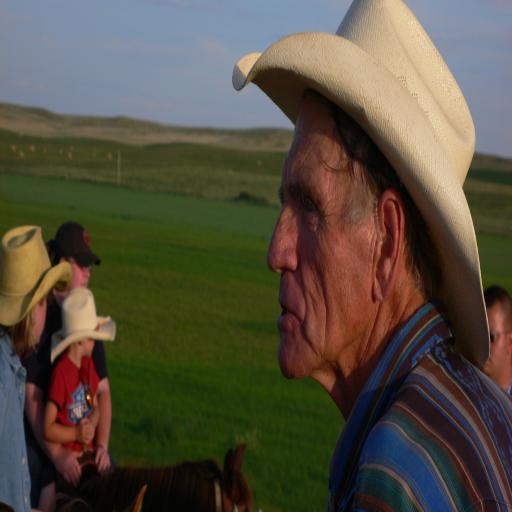horse: (58, 438, 256, 512)
